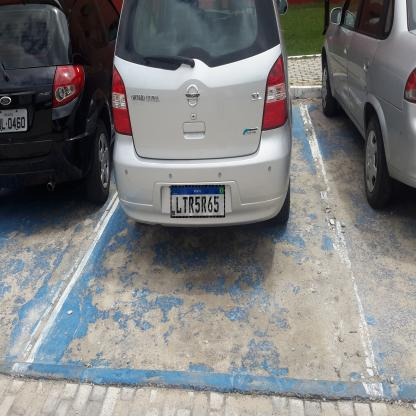PlacaM: (171, 185, 225, 218)
